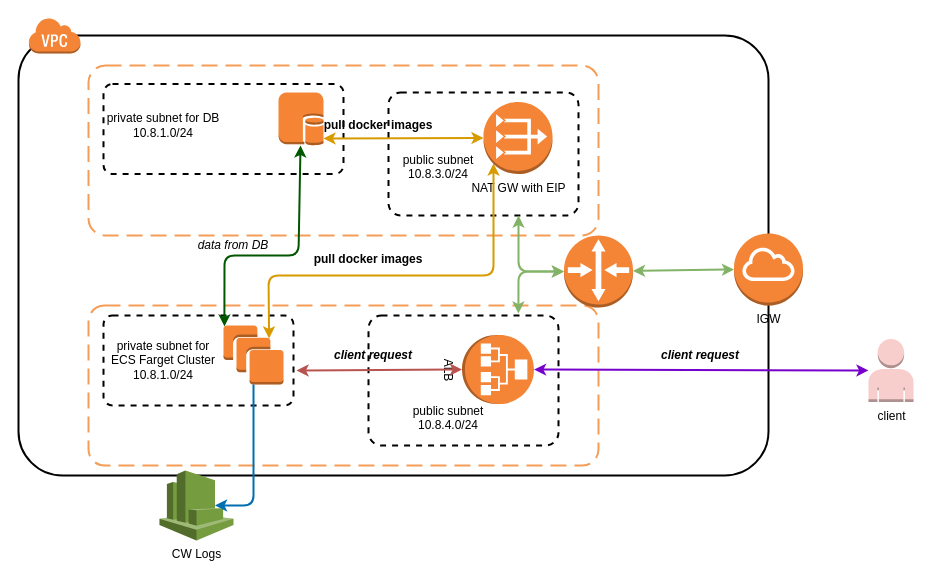
Some shapes in this 931 by 579 pixel diagram are drawn without their labels. The centre of each missing label's shape, as x and y in pixels:
Mongo EC2: the point at 301,119
Router: the point at 598,271
